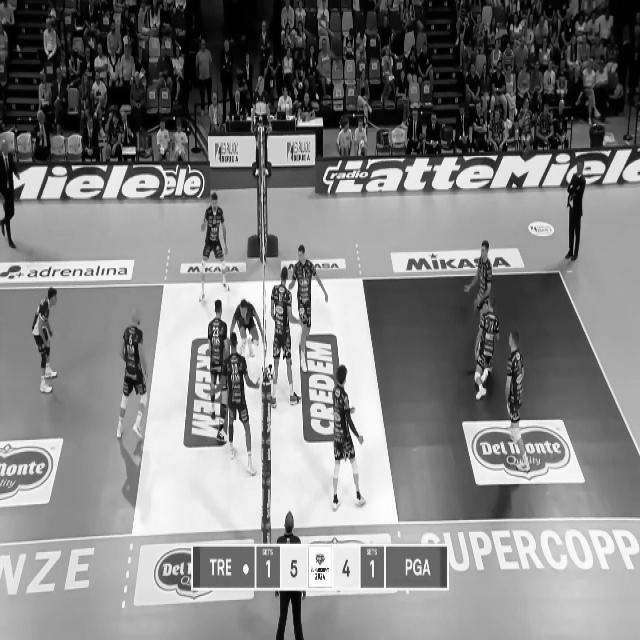volleyball court: (0, 270, 639, 530)
